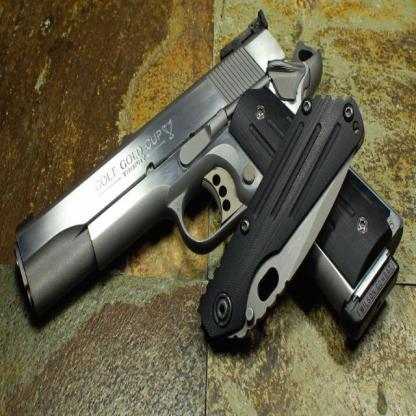weapon: (13, 9, 405, 353)
